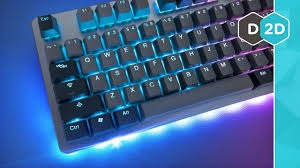keyboard: (23, 8, 241, 151)
